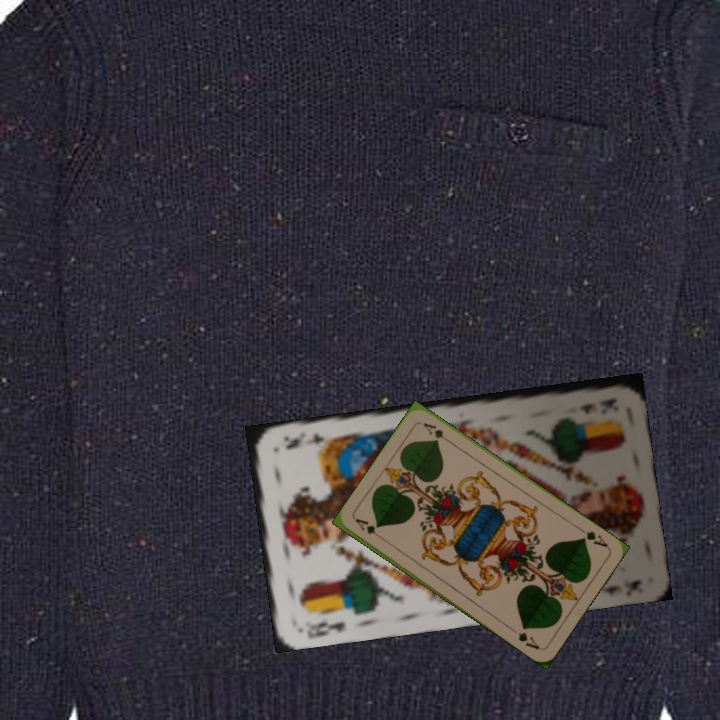EK: (305, 616, 348, 640), (575, 393, 620, 415)
GA: (351, 514, 387, 543), (574, 523, 611, 550)
